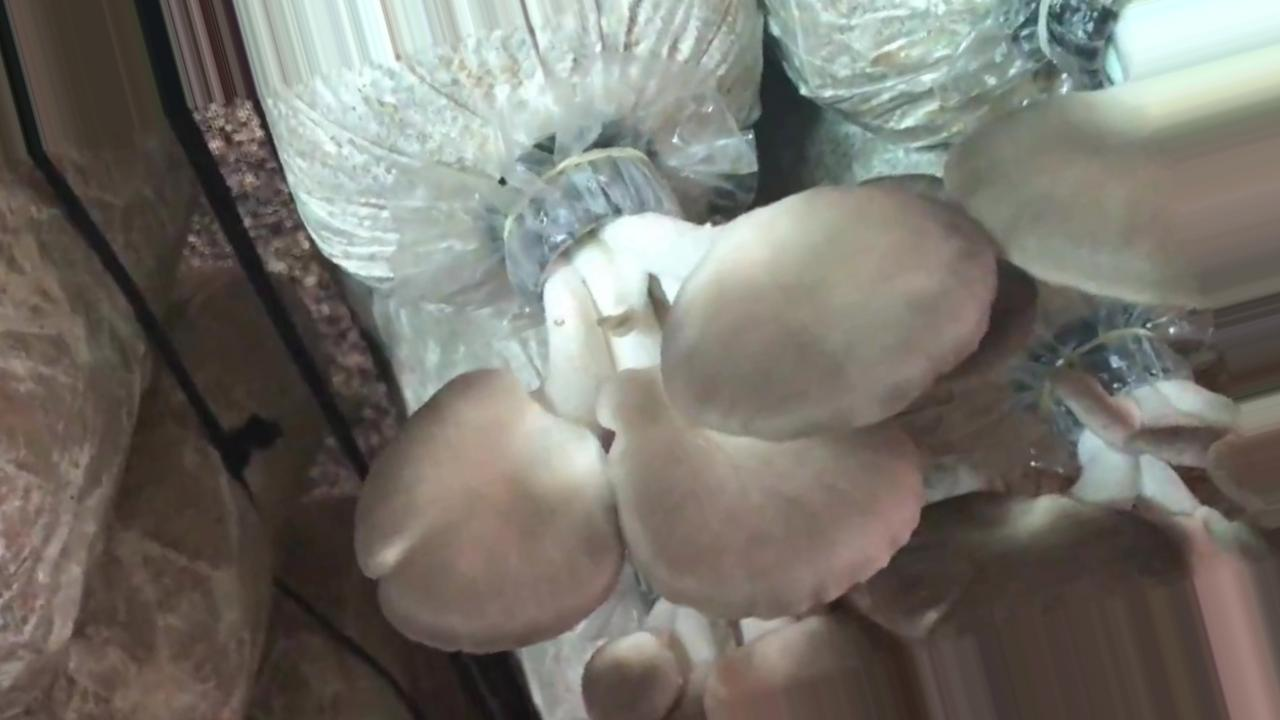nam: (355, 137, 998, 649), (873, 325, 1280, 636), (942, 1, 1280, 312), (582, 587, 930, 720)
